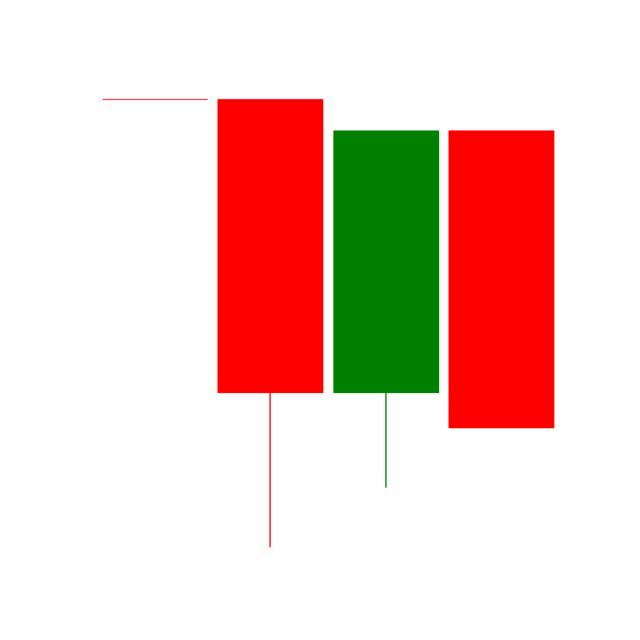Marubozu: (443, 127, 559, 431)
